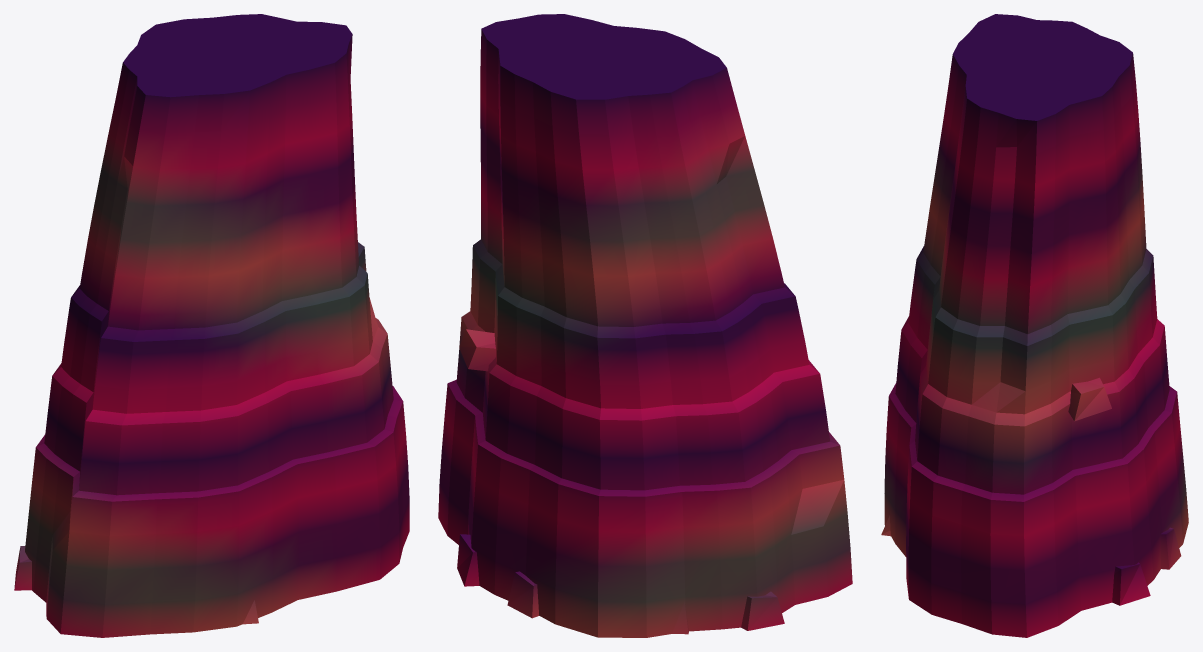
Rendered from SM_CinderCanyon_Rock_C.fbx.
The picture shows the model from 3 angles, left to right: view 1: azimuth 30°, elevation 25°; view 2: azimuth 150°, elevation 25°; view 3: azimuth 270°, elevation 25°; orthographic projection. The views are drawn at different scales.
Visible parts, largest first — view 1: SM_CinderCanyon_Rock_C; view 2: SM_CinderCanyon_Rock_C; view 3: SM_CinderCanyon_Rock_C.
Part boxes in pixels (bbox=[...]): SM_CinderCanyon_Rock_C: bbox=[14, 14, 409, 637]; SM_CinderCanyon_Rock_C: bbox=[438, 14, 852, 637]; SM_CinderCanyon_Rock_C: bbox=[881, 14, 1188, 637].
Bounding box in the file's own units: 100 × 72 × 128.
